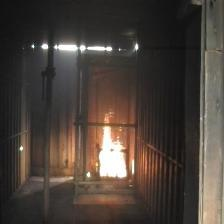fire: (94, 114, 135, 181)
